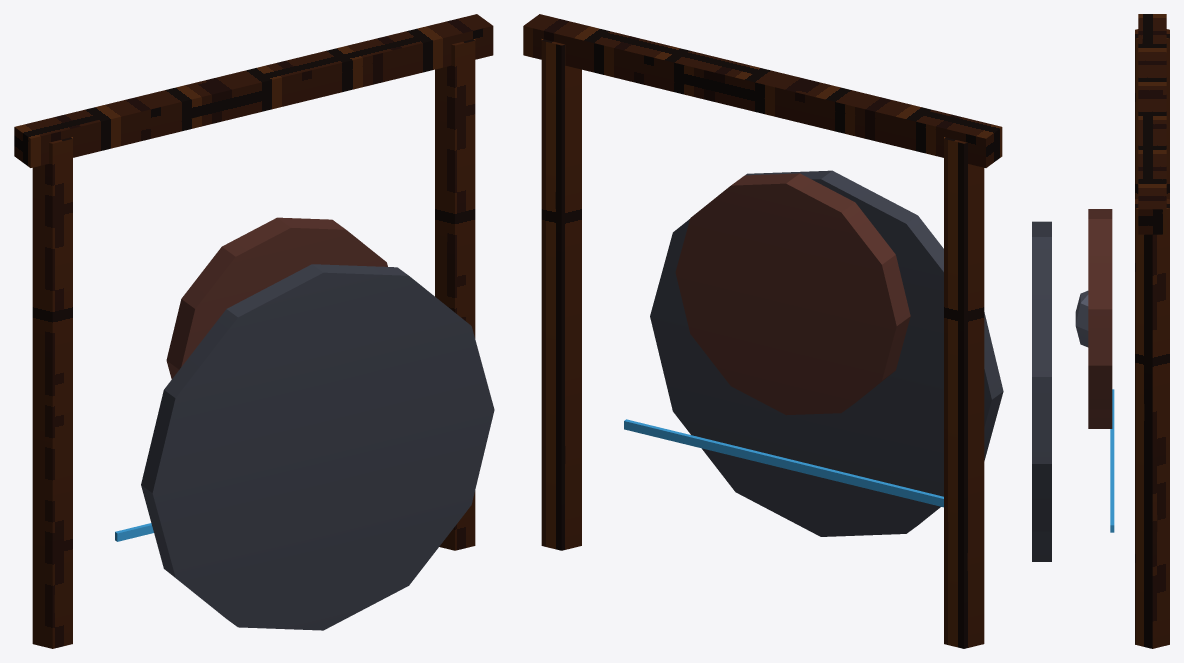
File: shield_rack.glb
The picture shows the model from 3 angles, left to right: view 1: azimuth 30°, elevation 25°; view 2: azimuth 150°, elevation 25°; view 3: azimuth 270°, elevation 25°; orthographic projection. The views are drawn at different scales.
Visible parts, largest first — view 1: shield_rack; view 2: shield_rack; view 3: shield_rack.
Boxes of the visible parts, left/top/right/bottom form: shield_rack: left=14, top=14, right=494, bottom=648; shield_rack: left=523, top=14, right=1003, bottom=648; shield_rack: left=1032, top=14, right=1169, bottom=648.
Size of the model in its own units: 2.3 by 2.44 by 0.6866.
3 materials, 1 textured.
